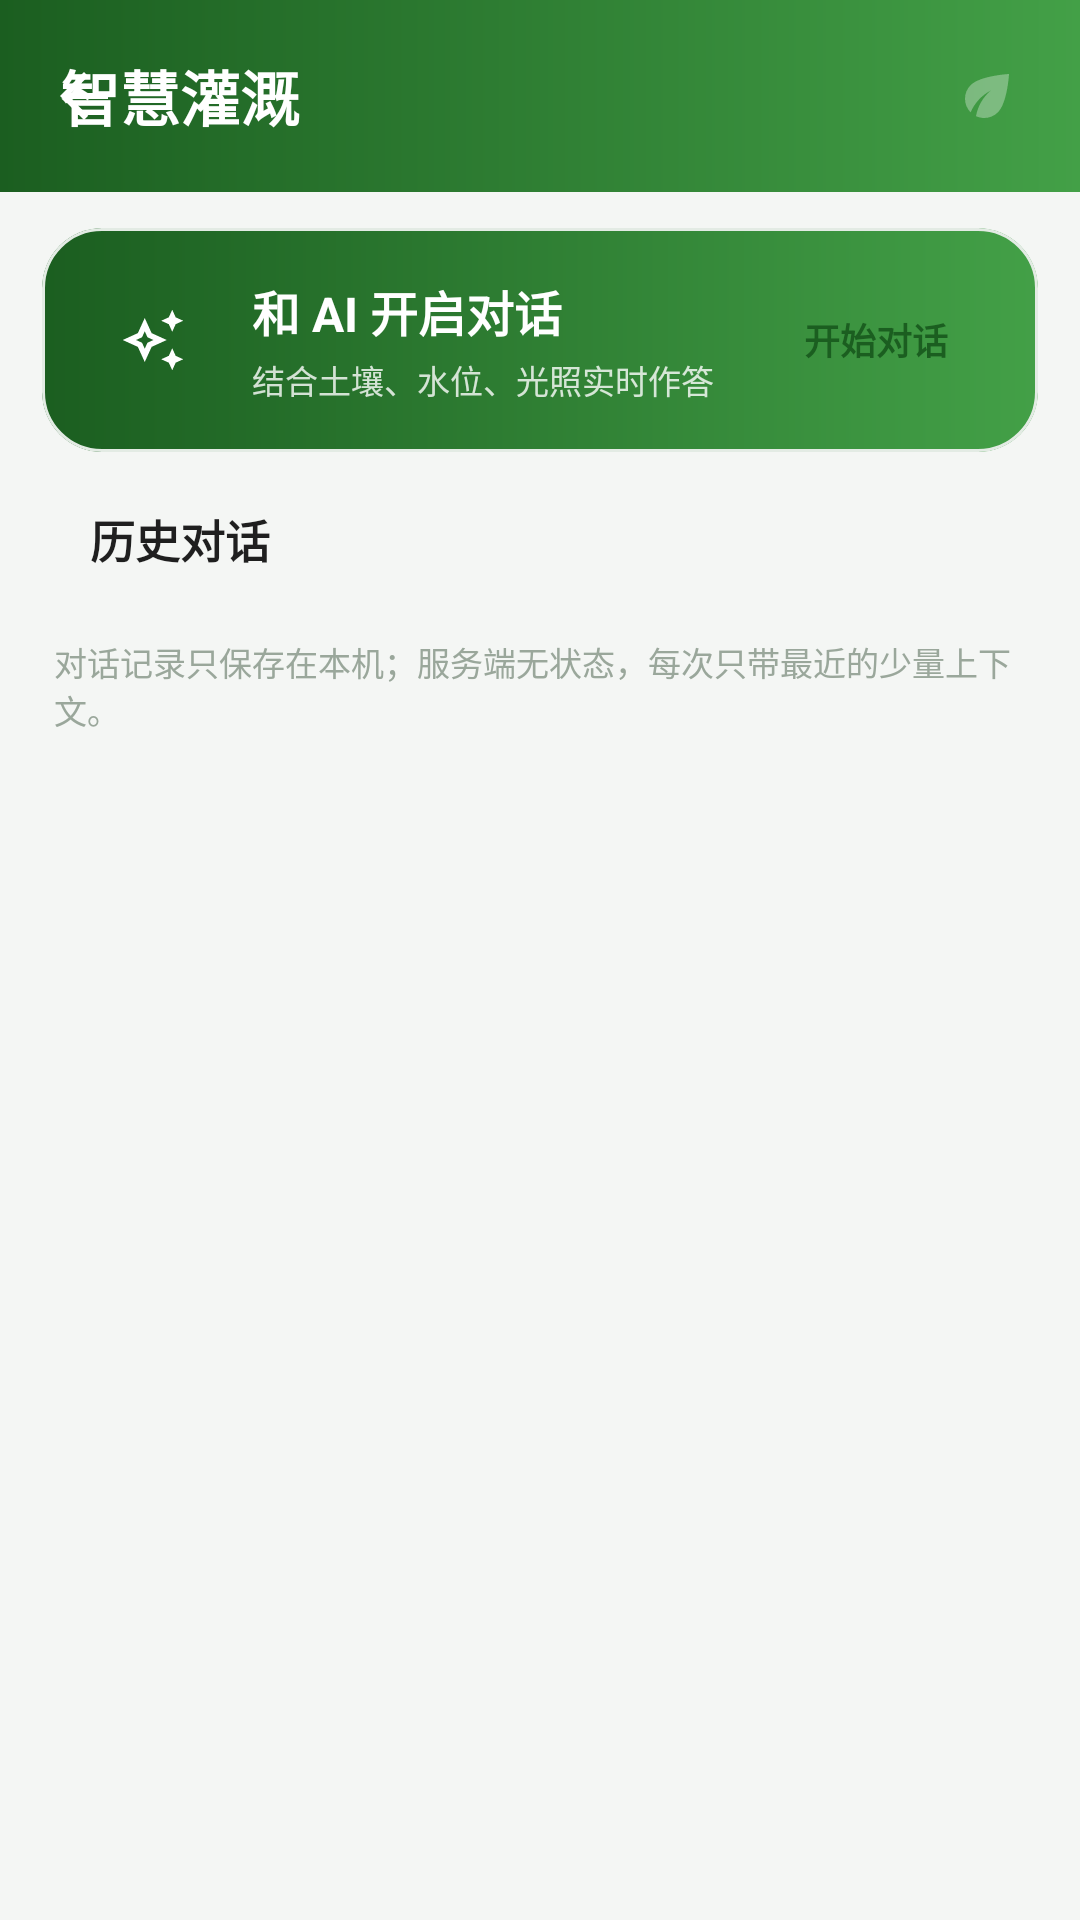

Icon bounding boxes for this 1080x1920 phone screenshot, format (x1, y1, x2, y2):
leaf: (965, 74, 1009, 118)
sparkle: (123, 310, 183, 370)
